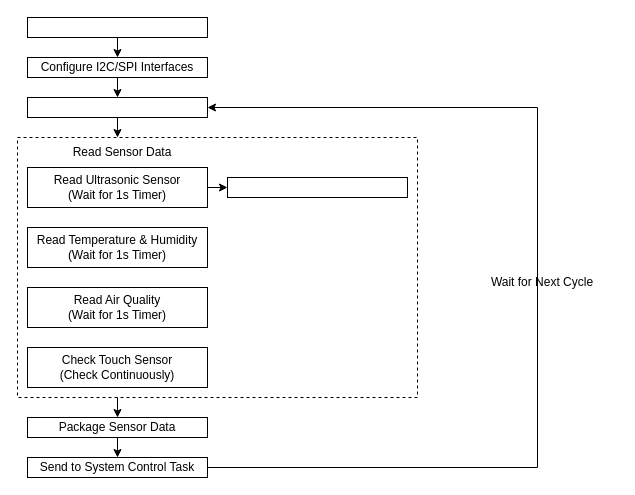
The diagram is 635 pixels wide and 495 high, and some of its shapes have lost their labels. The centre of each missing label's shape, as x and y in pixels:
Calculate Distance: the point at 317,187
Enter Sensor Loop: the point at 117,107
Initialize Sensors: the point at 117,27
